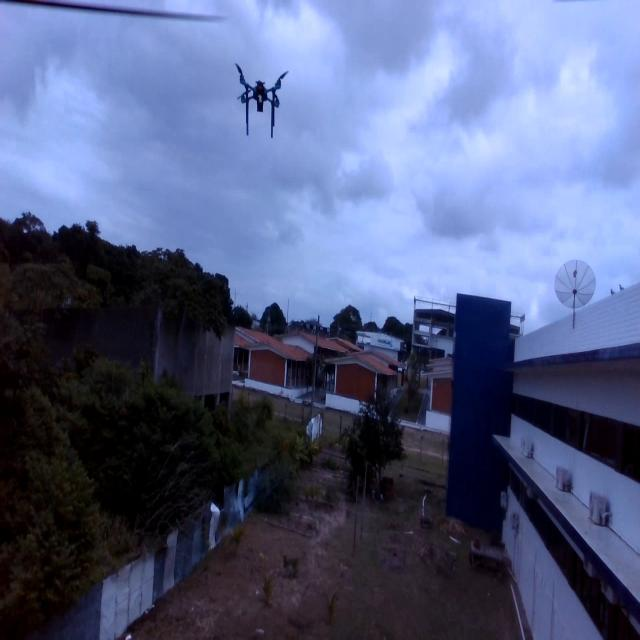-uav-: (230, 58, 292, 145)
